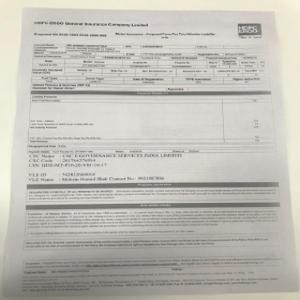image: (237, 22, 263, 36)
table: (29, 89, 274, 152), (32, 43, 272, 89)
text: (26, 208, 279, 229), (29, 150, 184, 183), (27, 187, 277, 201)
